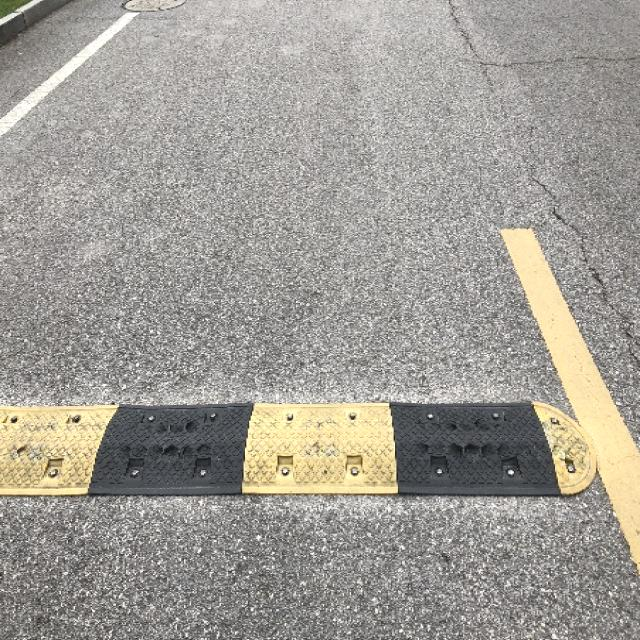Speed Bump: (0, 398, 593, 507)
